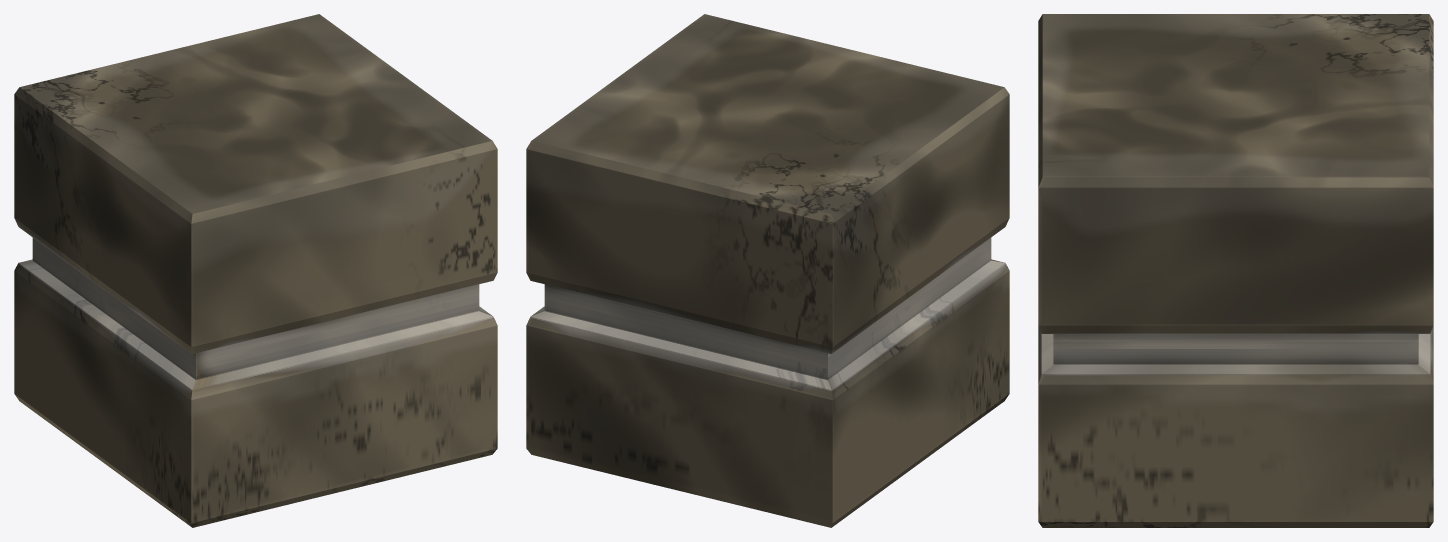
Rendered from block.glb.
3 renders of one model, left to right at view 1: azimuth 30°, elevation 25°; view 2: azimuth 150°, elevation 25°; view 3: azimuth 270°, elevation 25°, orthographic. The views are drawn at different scales.
Visible parts, largest first — view 1: Cube; view 2: Cube; view 3: Cube.
Boxes of the visible parts, bbox=[...] form: Cube: bbox=[14, 14, 497, 527]; Cube: bbox=[526, 14, 1009, 527]; Cube: bbox=[1038, 14, 1433, 527].
Bounding box in the file's own units: 1 × 0.9789 × 1.
Materials: 1 (1 with a texture image).
